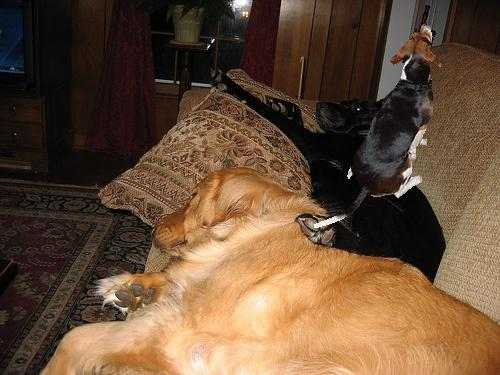tampered: (314, 24, 441, 228)
